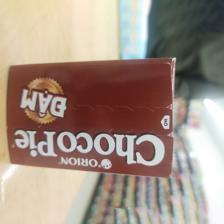Chocopie_cacao: (7, 57, 177, 177)
